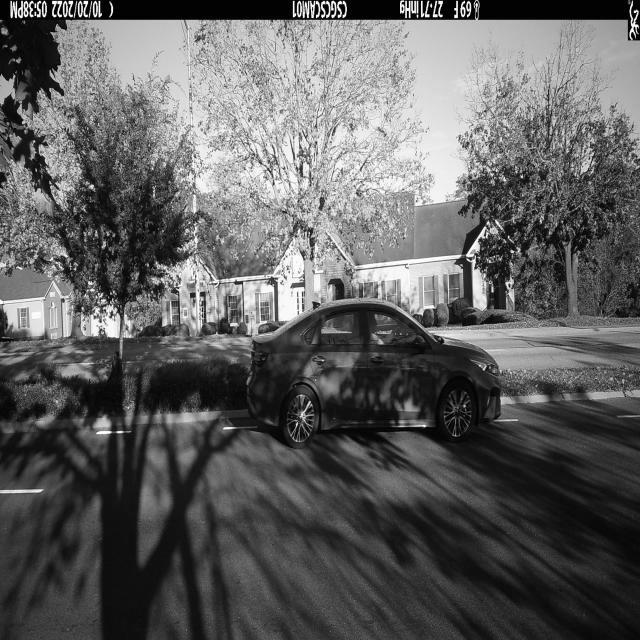Sedan: (246, 299, 502, 448)
